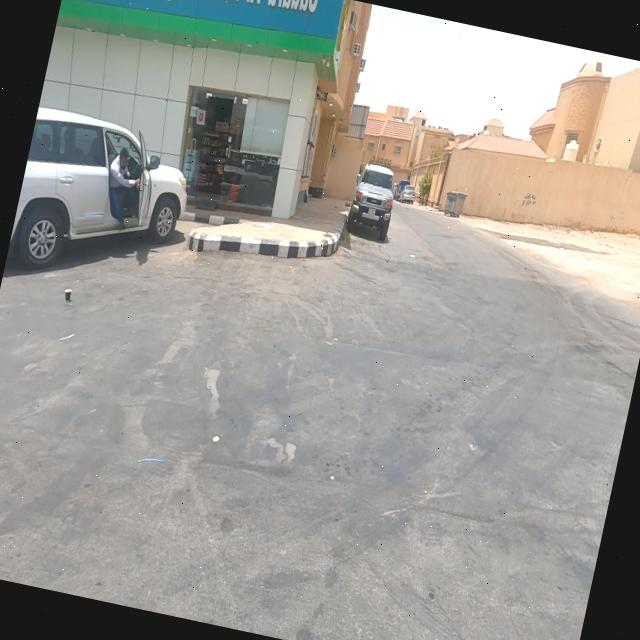Graffiti: (521, 192, 537, 209)
